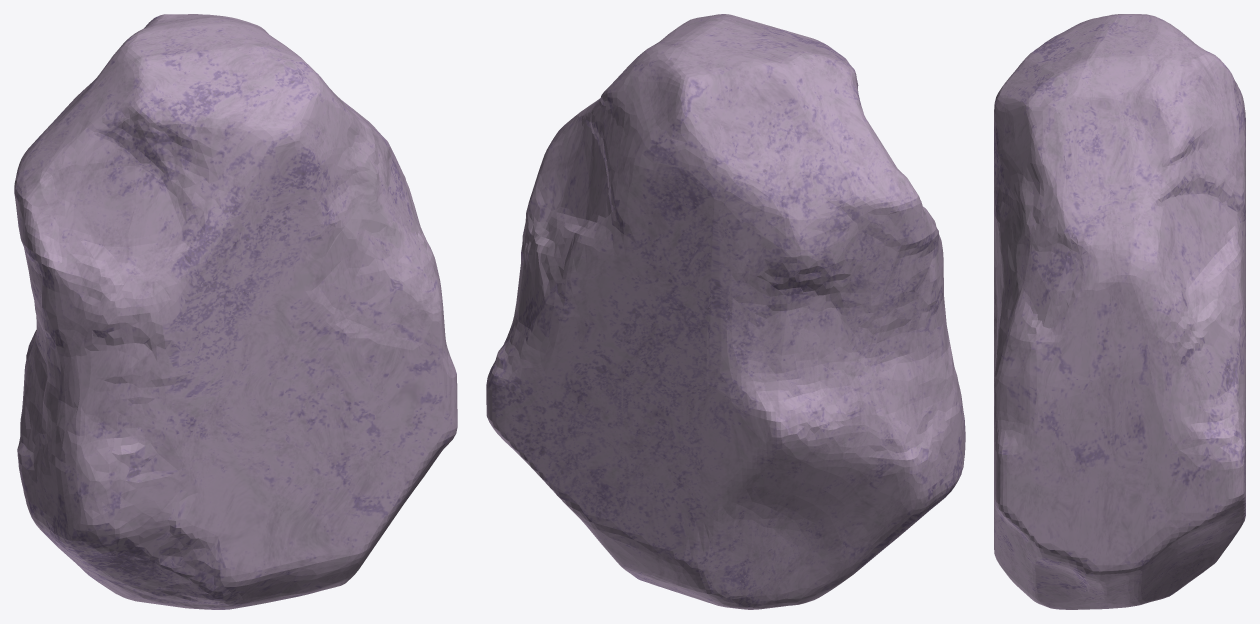
The model's file is 3rock3.glb.
The picture shows the model from 3 angles, left to right: view 1: azimuth 30°, elevation 25°; view 2: azimuth 150°, elevation 25°; view 3: azimuth 270°, elevation 25°; orthographic projection. The views are drawn at different scales.
Visible parts, largest first — view 1: rock3; view 2: rock3; view 3: rock3.
Part boxes in pixels (left/top/right/bottom): rock3: left=14, top=14, right=457, bottom=609; rock3: left=486, top=14, right=965, bottom=609; rock3: left=994, top=14, right=1245, bottom=609.
Size of the model in its own units: 2.04 by 2.81 by 1.23.
1 material, 1 textured.
